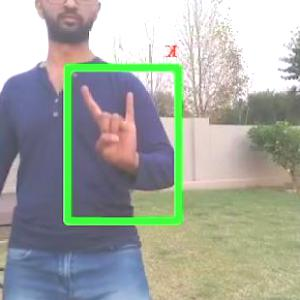takeoff-hand: (78, 73, 140, 177)
